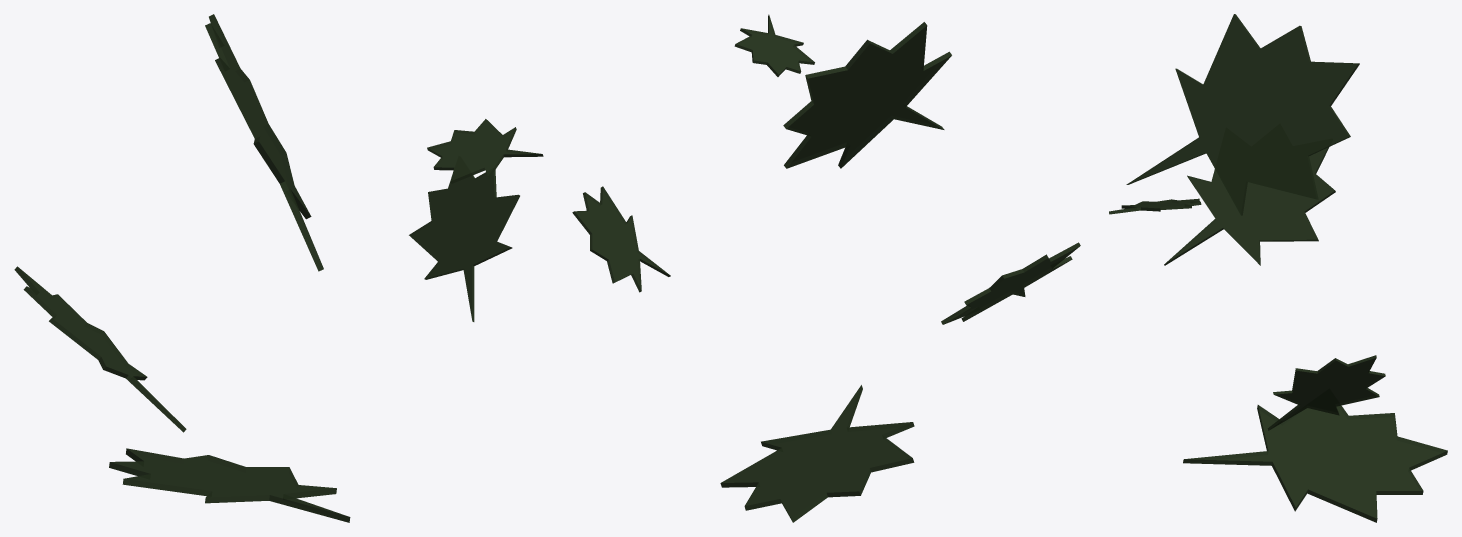
Rendered from leaves_2.obj.
3 renders of one model, left to right at view 1: azimuth 30°, elevation 25°; view 2: azimuth 150°, elevation 25°; view 3: azimuth 270°, elevation 25°, orthographic. The views are drawn at different scales.
Parts seen in each view (by area): view 1: leaves_2; view 2: leaves_2; view 3: leaves_2.
Part boxes in pixels (box(x1,y1,x2,y2)): leaves_2: box(14, 14, 543, 522); leaves_2: box(572, 14, 1080, 522); leaves_2: box(1109, 14, 1447, 522).
Bounding box in the file's own units: 13.45 × 12.86 × 8.88.
